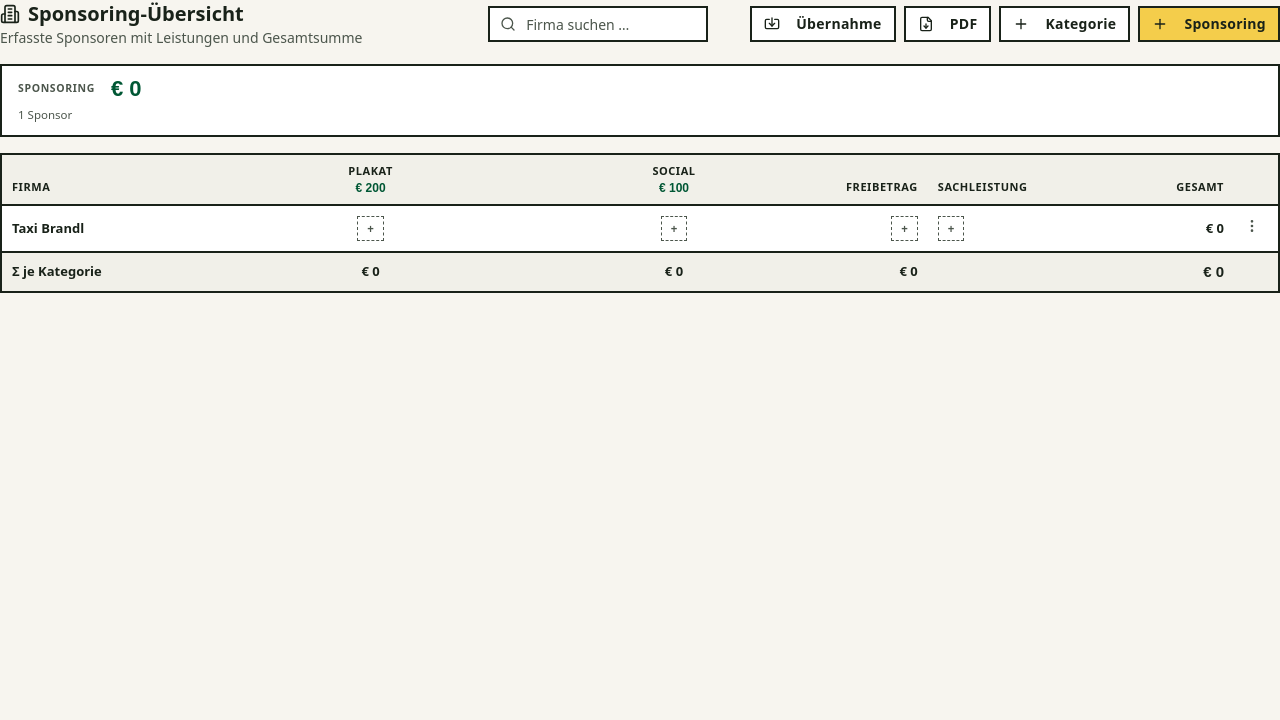
Test: SponsoringsSection — Zellklick schreibt › weist eine Kategorie zum Standardwert zu und zieht die Summen nach
Click the 1st button "+": (371, 228) [229,207,512,250]
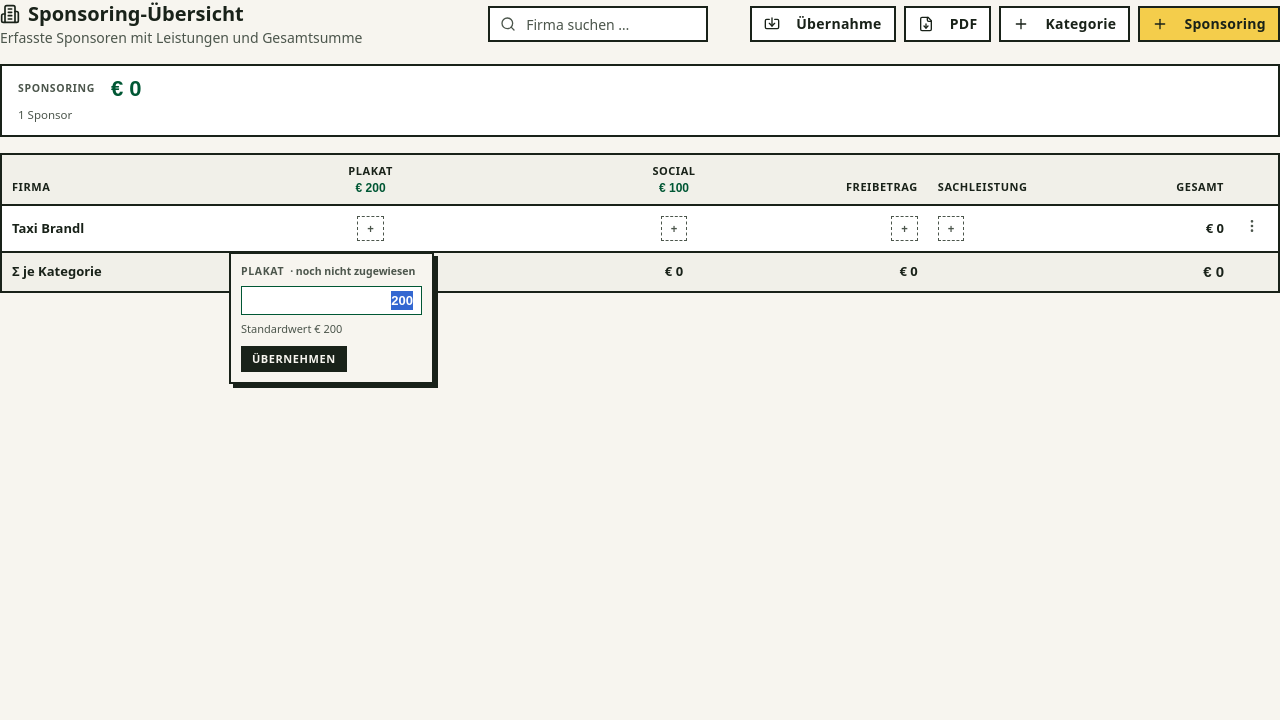
Click the button "Übernehmen": (294, 359) [241,346,347,372]
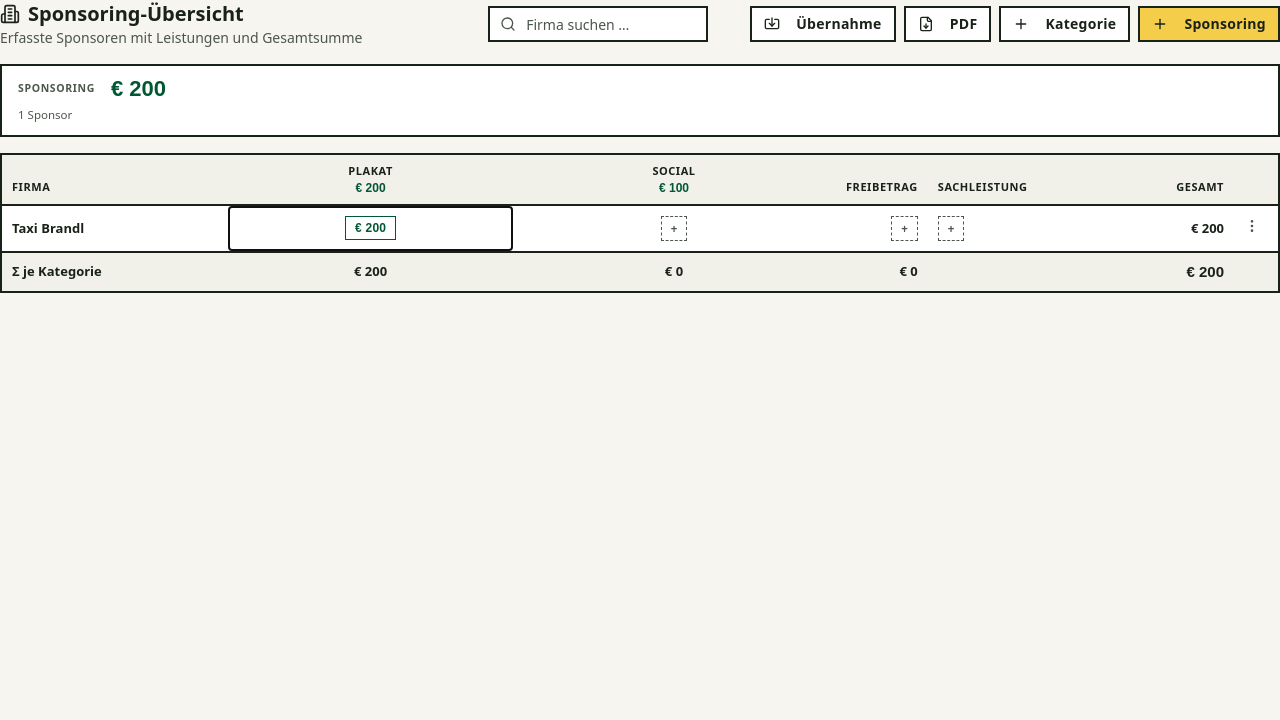
expect the element showing "Sponsoring € 200 1 Sponsor" is shown: met, box [0,64,1279,137]
